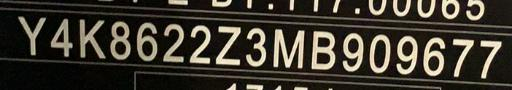letter: (13, 12, 47, 56), (271, 26, 305, 68), (78, 17, 108, 59), (212, 23, 242, 65), (242, 26, 270, 68), (47, 16, 75, 57), (308, 28, 336, 69), (476, 37, 504, 78), (420, 34, 446, 76), (449, 37, 475, 79), (160, 22, 186, 63), (186, 23, 212, 63), (367, 33, 393, 73), (135, 20, 159, 62), (340, 30, 364, 72), (394, 34, 418, 75), (108, 20, 132, 59)
